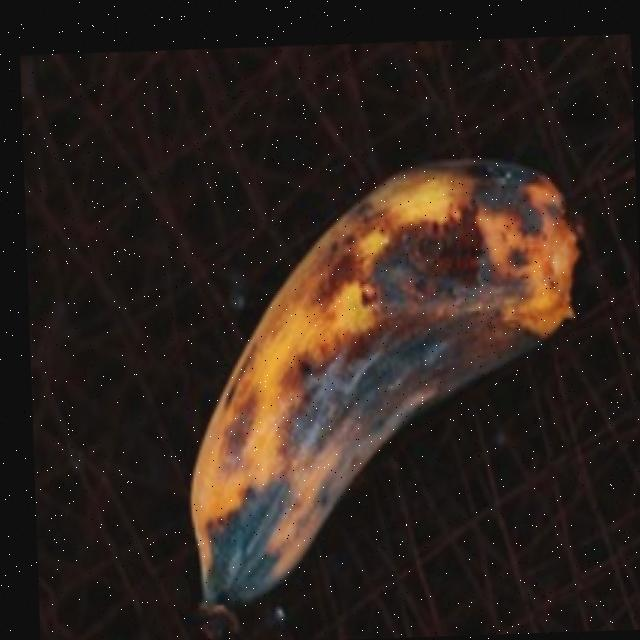Rotten: (151, 88, 619, 640)
